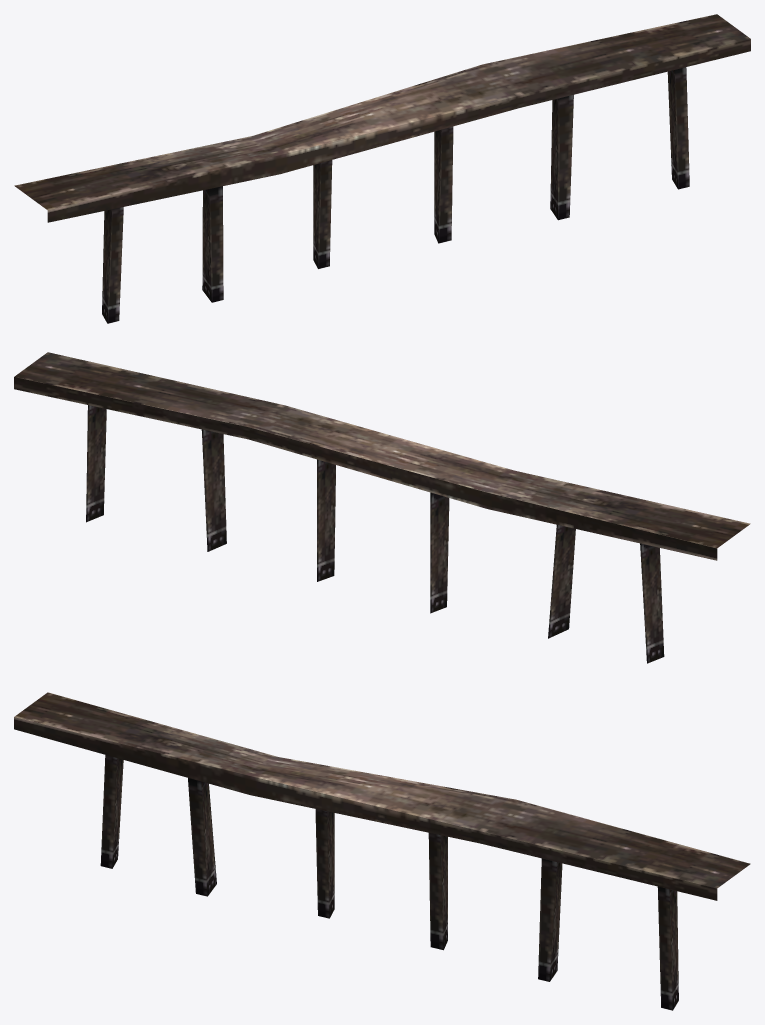
Rendered from OZ_30_nk_fence01A.glb.
3 views of the same model, one above another, from view 1: azimuth 30°, elevation 25°; view 2: azimuth 150°, elevation 25°; view 3: azimuth 330°, elevation 25° (orthographic).
Parts seen in each view (by area): view 1: OM_30_nk_fence01A; view 2: OM_30_nk_fence01A; view 3: OM_30_nk_fence01A.
Boxes of the visible parts, x1,y1,x2,y2 form: OM_30_nk_fence01A: [14, 14, 750, 323]; OM_30_nk_fence01A: [14, 352, 750, 663]; OM_30_nk_fence01A: [14, 692, 750, 1010].
Size of the model in its own units: 6 by 1.21 by 0.5393.
1 material, 1 textured.
